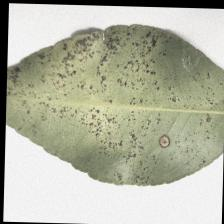canker: (47, 57, 182, 164)
